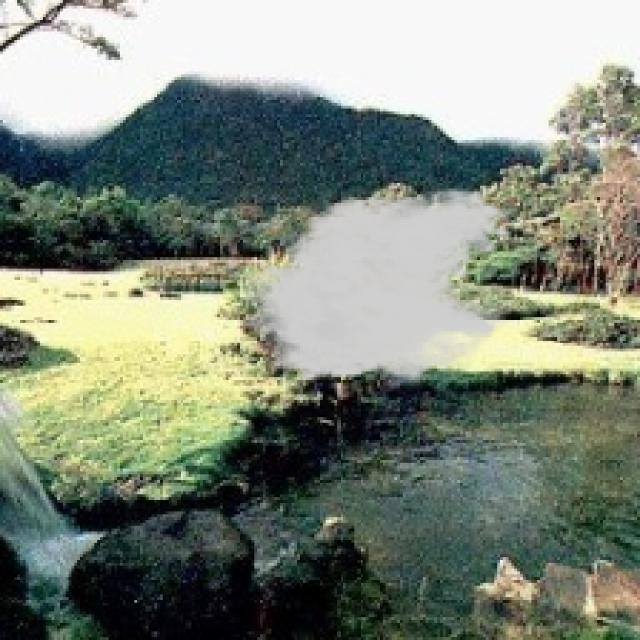Smoke: (232, 186, 514, 394)
